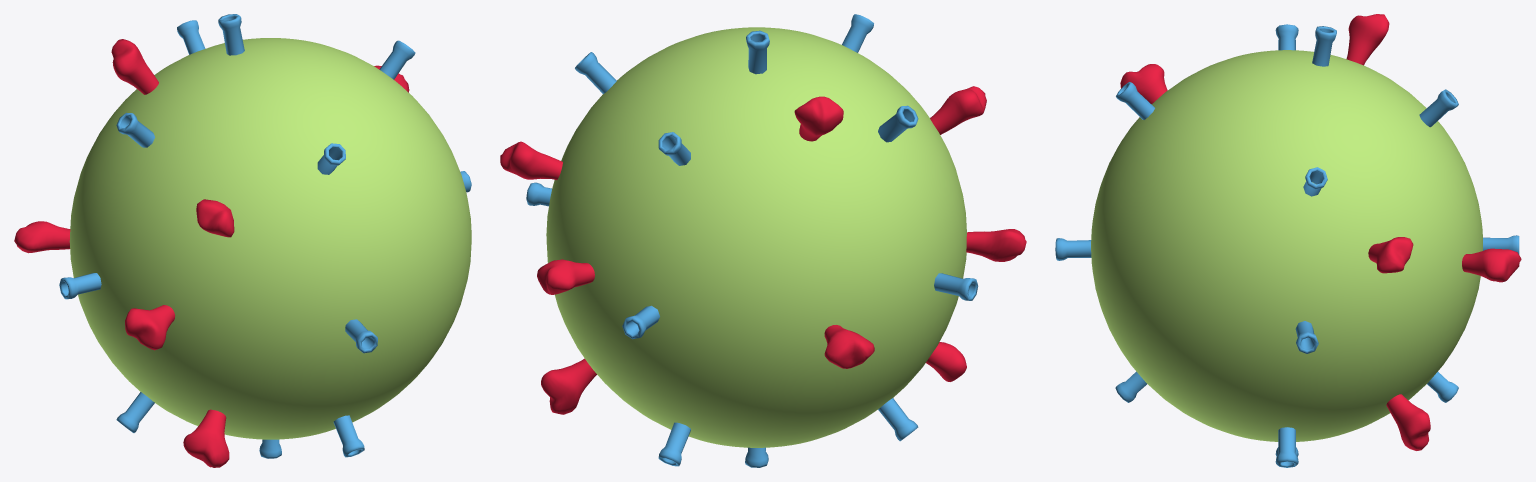
File: Virus Corona Covid-19-FLATTEN.fbx
3 views of the same model, side by side, from view 1: azimuth 30°, elevation 25°; view 2: azimuth 150°, elevation 25°; view 3: azimuth 270°, elevation 25° (orthographic). The views are drawn at different scales.
Visible parts, largest first — view 1: CAPA, Cylinder.002, Cylinder.001, Cylinder.018; view 2: CAPA, Cylinder.018, Cylinder.002, Cylinder.001; view 3: CAPA, Cylinder.002, Cylinder.018, Cylinder.001.
Part boxes in pixels (bbox=[...]): CAPA: bbox=[69, 38, 471, 439]; Cylinder.002: bbox=[59, 14, 471, 458]; Cylinder.001: bbox=[111, 39, 229, 467]; Cylinder.018: bbox=[14, 65, 409, 253]; CAPA: bbox=[546, 27, 966, 447]; Cylinder.018: bbox=[500, 86, 986, 414]; Cylinder.002: bbox=[526, 14, 978, 467]; Cylinder.001: bbox=[794, 96, 1026, 381]; CAPA: bbox=[1091, 50, 1482, 441]; Cylinder.002: bbox=[1055, 24, 1519, 467]; Cylinder.018: bbox=[1120, 64, 1521, 450]; Cylinder.001: bbox=[1346, 14, 1389, 65].
Size of the model in its own units: 236 by 235 by 237.
